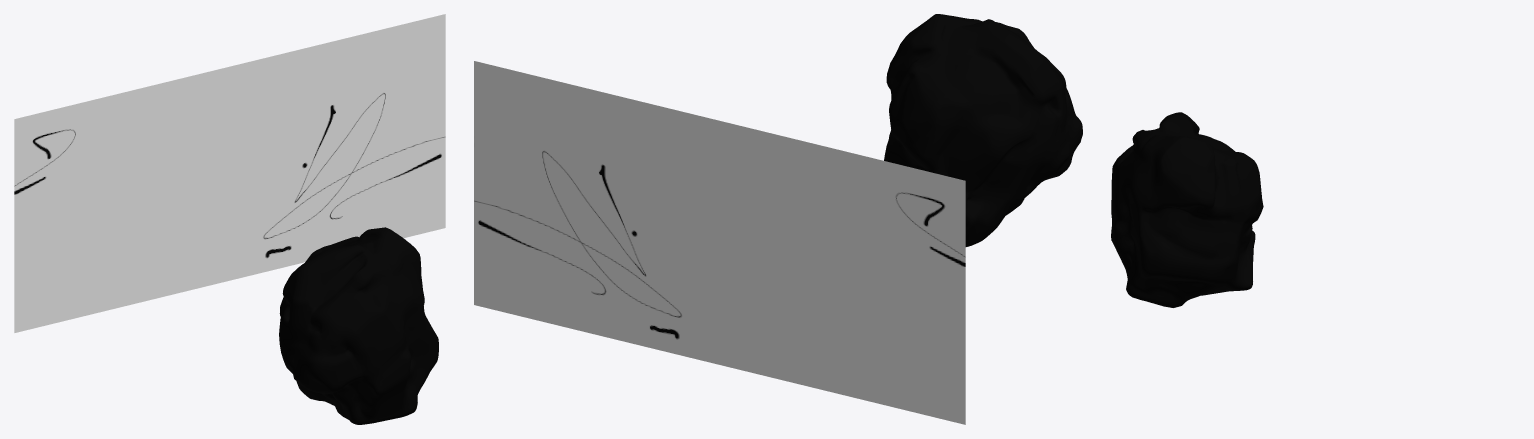
Rendered from simple_asteroid.glb.
3 views of the same model, side by side, from view 1: azimuth 30°, elevation 25°; view 2: azimuth 150°, elevation 25°; view 3: azimuth 270°, elevation 25° (orthographic). The views are drawn at different scales.
Parts seen in each view (by area): view 1: mesh_id1, node_id57; view 2: mesh_id1, node_id57; view 3: node_id57.
Part boxes in pixels (x1,y1,x2,y2): mesh_id1: (14,14,445,332); node_id57: (279,227,438,424); mesh_id1: (474,61,965,424); node_id57: (884,14,1082,246); node_id57: (1111,112,1263,307).
Bounding box in the file's own units: 1.42 × 0.672 × 1.2.
2 materials, 2 textured.
